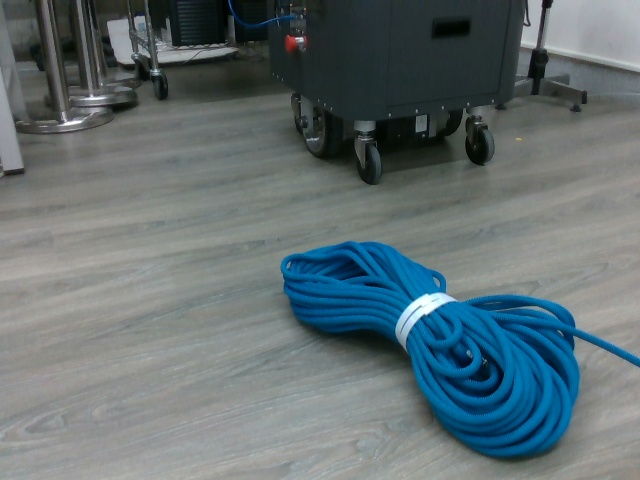rope: (281, 237, 583, 461)
